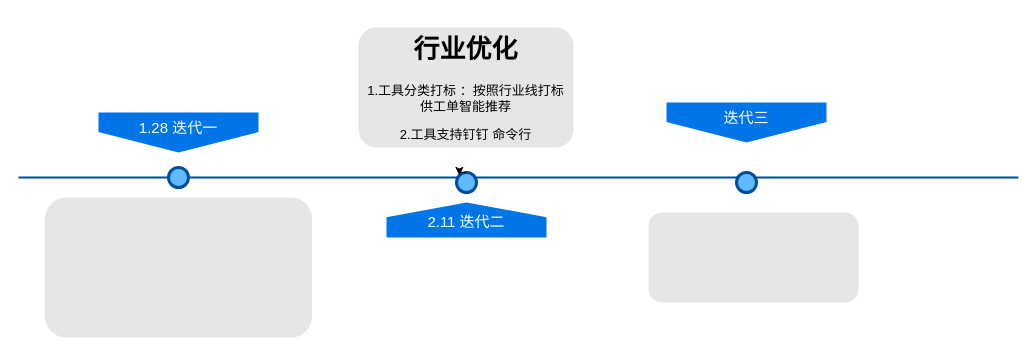
Image size: 1036x354. Some labels were removed from this diagram. The shapes that lost their labels are listed below. From the top down, each one's centre as x and y in pixels, then its label:
point 178,267: 平台搭建 1.数据集脚本 搭建：支持hsf 动态输入输出 2.工具创建 渲染 ：输入支持常见表单 输出支持列表 单页页面 输出
point 753,257: 流程搭建 1.工具sop搭建
